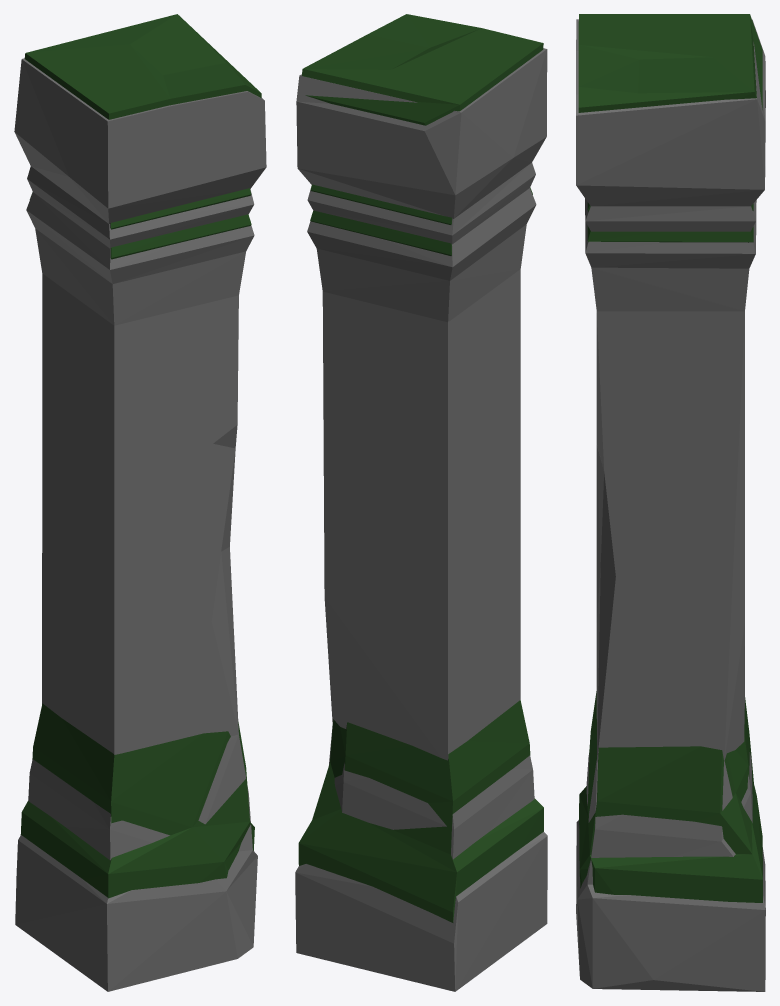
The model's file is SM_pillar_jungle_02.fbx.
3 renders of one model, left to right at view 1: azimuth 30°, elevation 25°; view 2: azimuth 150°, elevation 25°; view 3: azimuth 270°, elevation 25°, orthographic. The views are drawn at different scales.
Parts seen in each view (by area): view 1: Object055; view 2: Object055; view 3: Object055.
Part boxes in pixels (<box>): Object055: <box>14,14,266,991</box>; Object055: <box>295,14,547,991</box>; Object055: <box>576,14,765,991</box>.
Bounding box in the file's own units: 36.32 × 189 × 36.07.
